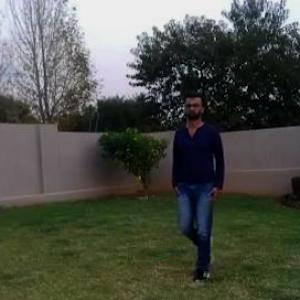follow: (174, 97, 223, 264)
